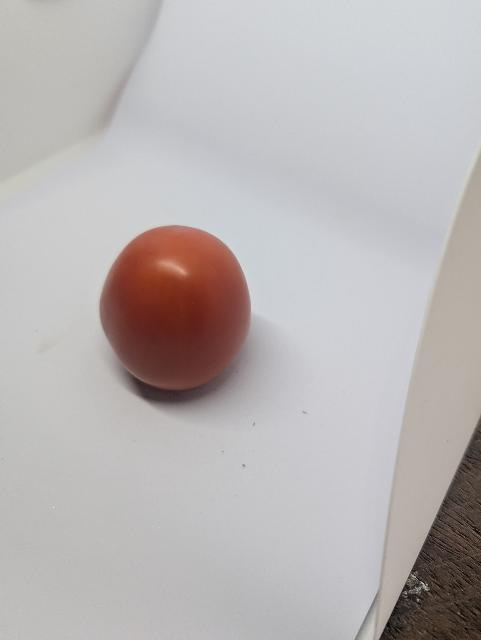red: (93, 215, 268, 407)
